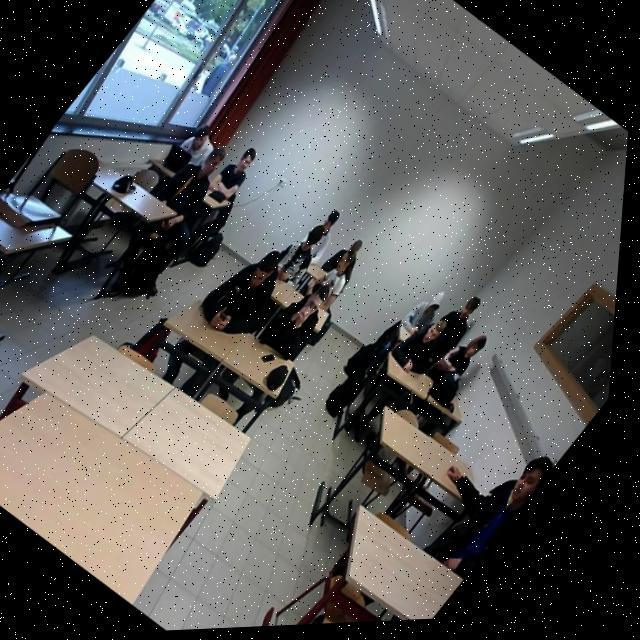phone_use: (201, 250, 284, 331), (277, 209, 337, 280), (398, 291, 443, 339)
